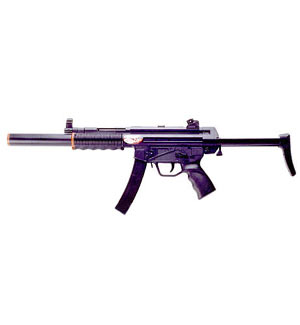rifle: (11, 88, 300, 240)
